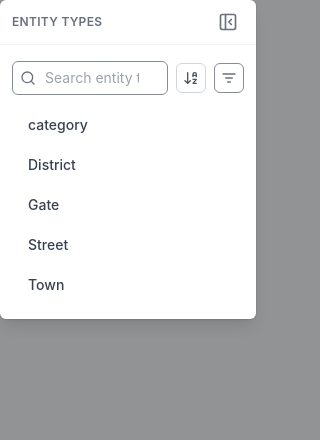
Test: ObjectTypeExplorer › filters (PandiO/knk-workspace#226) › offers a filter button next to the sort toggle that opens Any / Yes / No per filter
The width and height of the screenshot is (320, 440).
Click the button with test id "explorer-filter-button": (229, 78) [214,63,244,93]
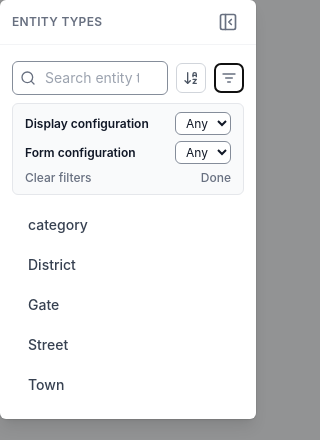
Now the dropdown labelled "Display configuration" shows "Any", box [175,112,231,135]
Now the dropdown labelled "Form configuration" shows "Any", box [175,141,231,164]
